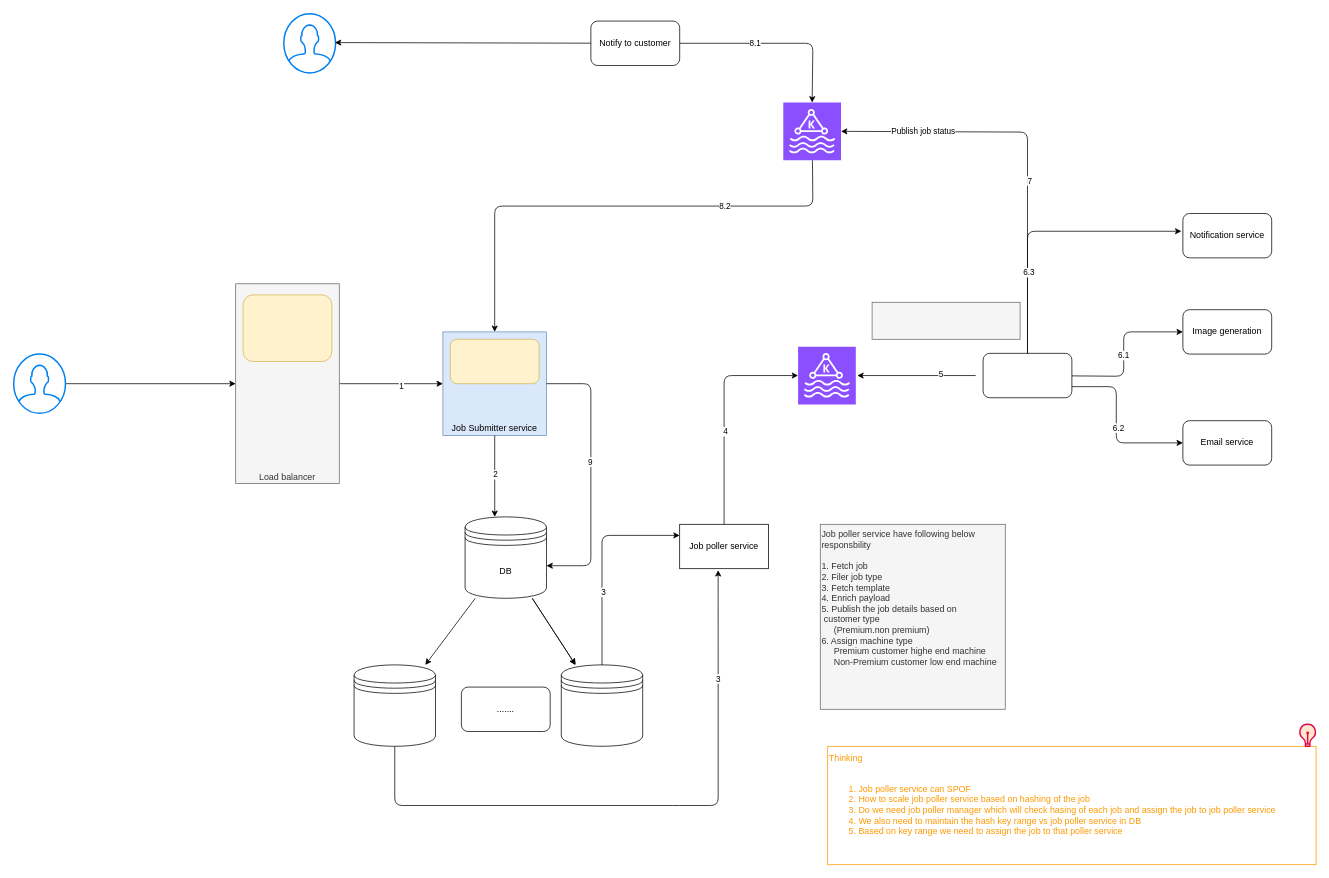
Image size: 1329x878. Some labels were removed from this diagram. Here are the shapes that lost their labels. From the top down, the box of each, then its label:
(242, 294, 332, 361): SSL termination Rate limiter Authentication/ Authorization
(871, 302, 1020, 339): Resource manager 1. Consumer Job details 2. Check resource type (Highe/Low)
(450, 339, 539, 384): Job validation
(982, 353, 1072, 398): Resource manager
(353, 664, 435, 746): Replica-1
(561, 664, 643, 746): Replica-2
